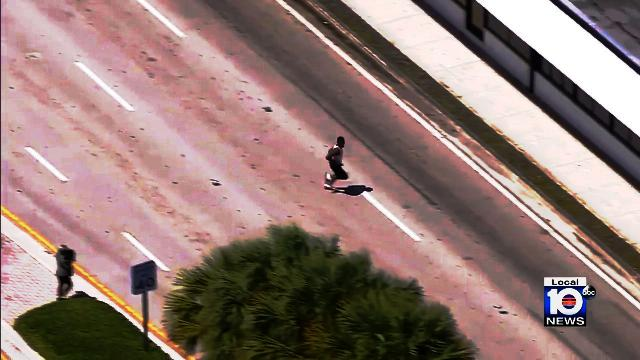berlari: (321, 132, 349, 194)
